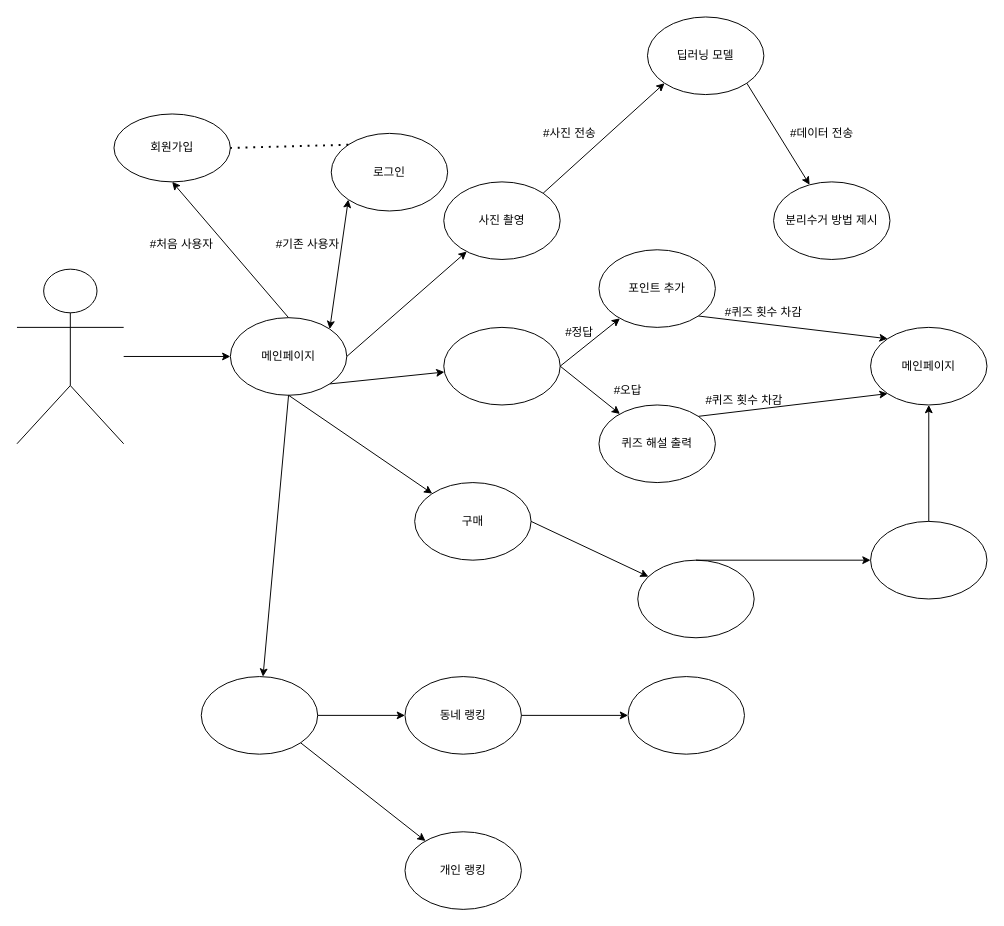
Image size: 1004x926. Some labels were removed from this diagram. The box of each missing label's shape, as (x1, y1, x2, y2) in pixels:
구매내역: (870, 520, 987, 599)
구매페이지: (637, 559, 754, 638)
랭킹: (200, 676, 318, 754)
사용자: (16, 268, 124, 444)
지도: (627, 676, 744, 754)
퀴즈 풀기: (443, 326, 560, 405)
